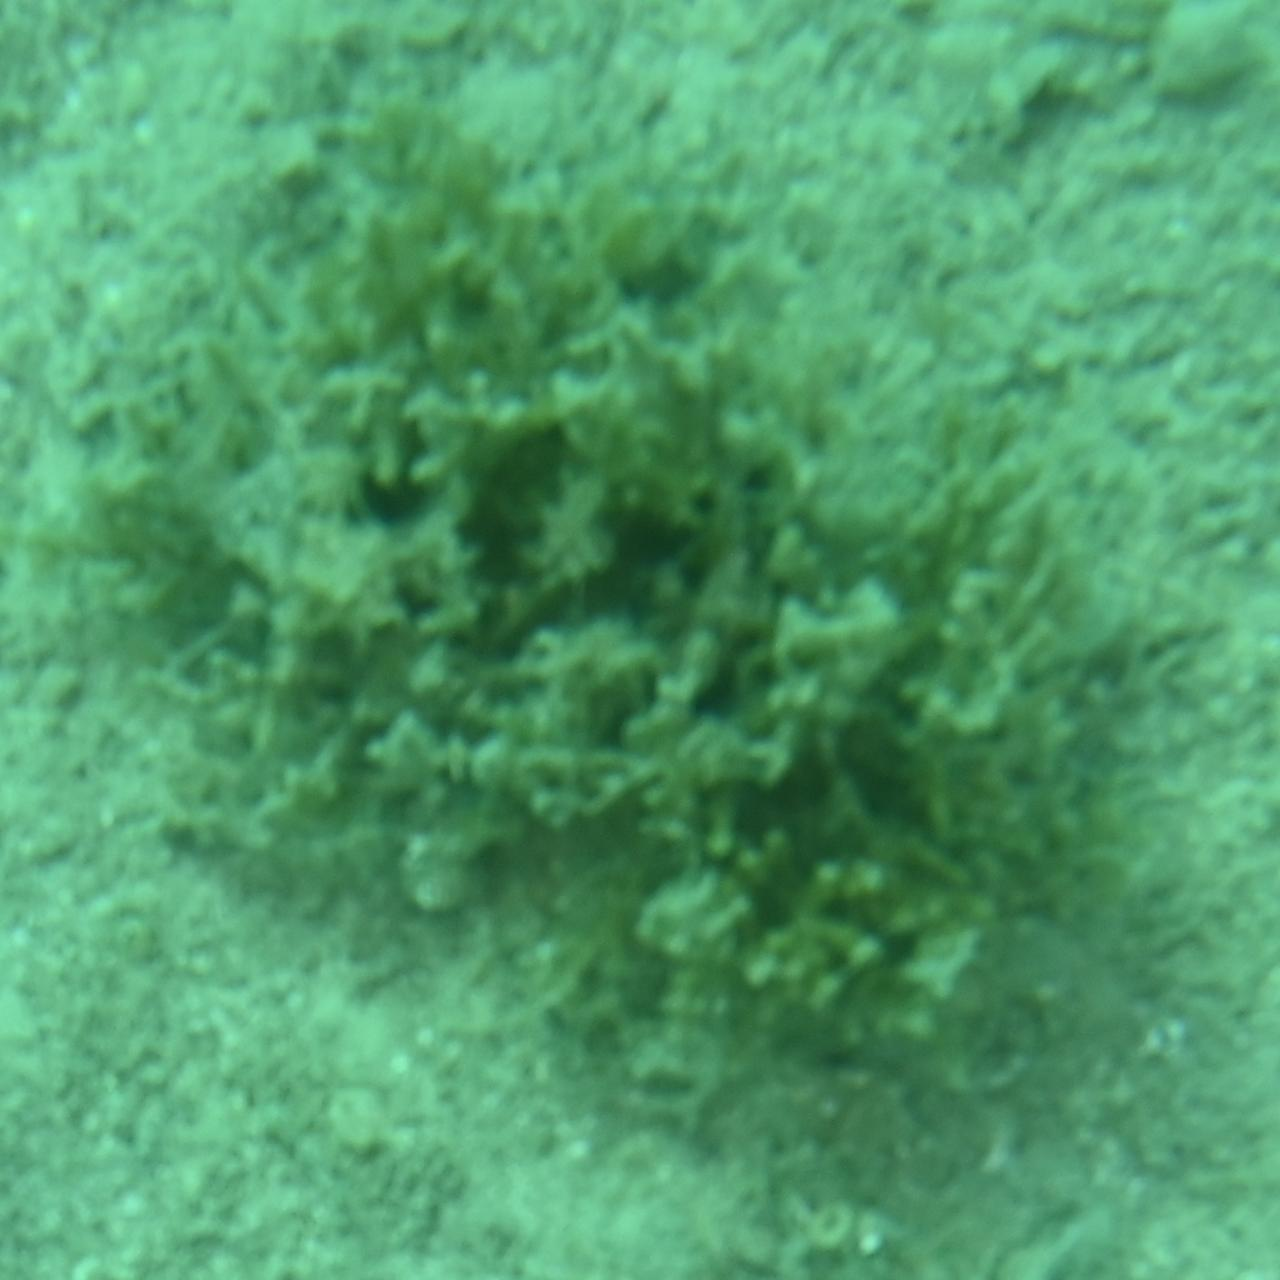Phaeophyceae -cfr Cystoseira-: (125, 137, 1155, 1143)
